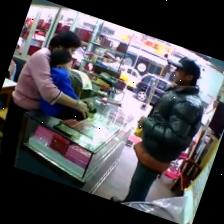person: (110, 57, 202, 203), (0, 30, 87, 166), (49, 49, 78, 99)
